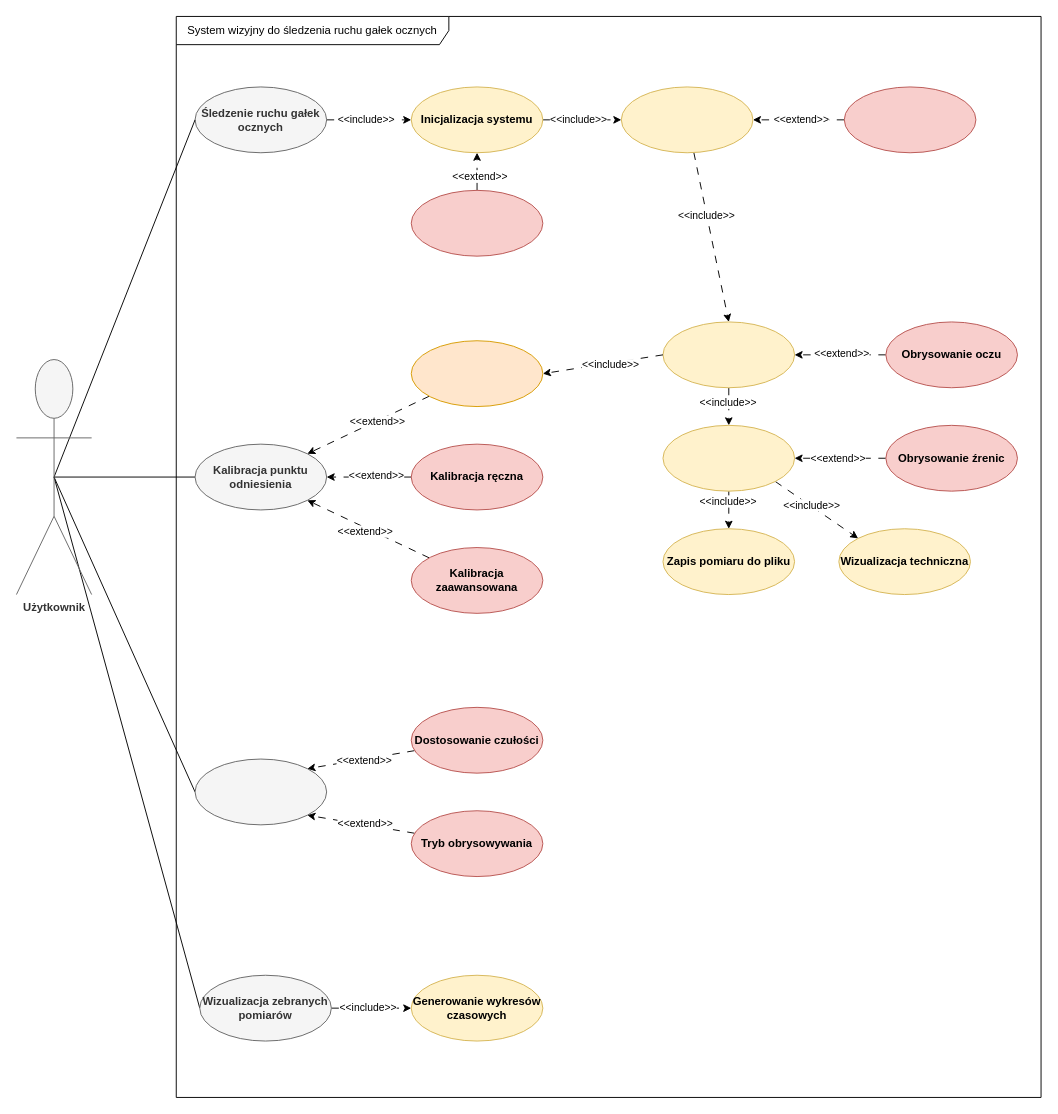
Some shapes in this 1058 by 1114 pixel diagram are drawn without their labels. The shapes that lost their labels are listed below. From the top down, each one's centre as x and y in pixels, then its label:
At (x=686, y=119): "Wykrywanie twarzy".
At (x=909, y=119): "Obrysowanie twarzy".
At (x=476, y=222): "Kontrola błędu: Informacja i zakończenie programu".
At (x=476, y=373): "Kalibracja automatyczna".
At (x=728, y=354): "Wykrywanie obu oczu".
At (x=728, y=457): "Wykrywanie źrenic".
At (x=260, y=791): "Personalizacja ustawień".
